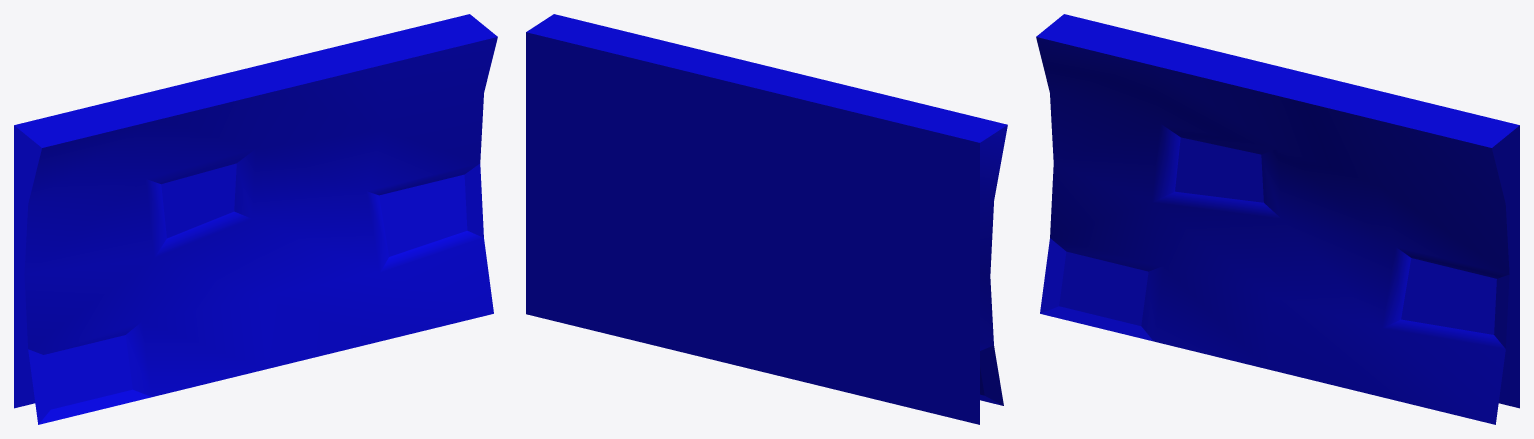
Rendered from m_cavewallplain.fbx.
3 views of the same model, side by side, from view 1: azimuth 30°, elevation 25°; view 2: azimuth 150°, elevation 25°; view 3: azimuth 330°, elevation 25° (orthographic).
Visible parts, largest first — view 1: m_cavewallplain; view 2: m_cavewallplain; view 3: m_cavewallplain.
Boxes of the visible parts, x1,y1,x2,y2 form: m_cavewallplain: [14, 14, 497, 424]; m_cavewallplain: [526, 14, 1007, 424]; m_cavewallplain: [1036, 14, 1519, 424].
Bounding box in the file's own units: 8 × 4.75 × 0.8543.
